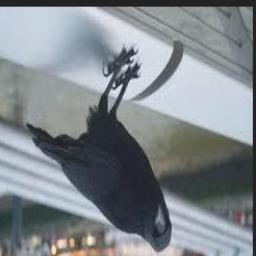Crow: (26, 47, 171, 252)
